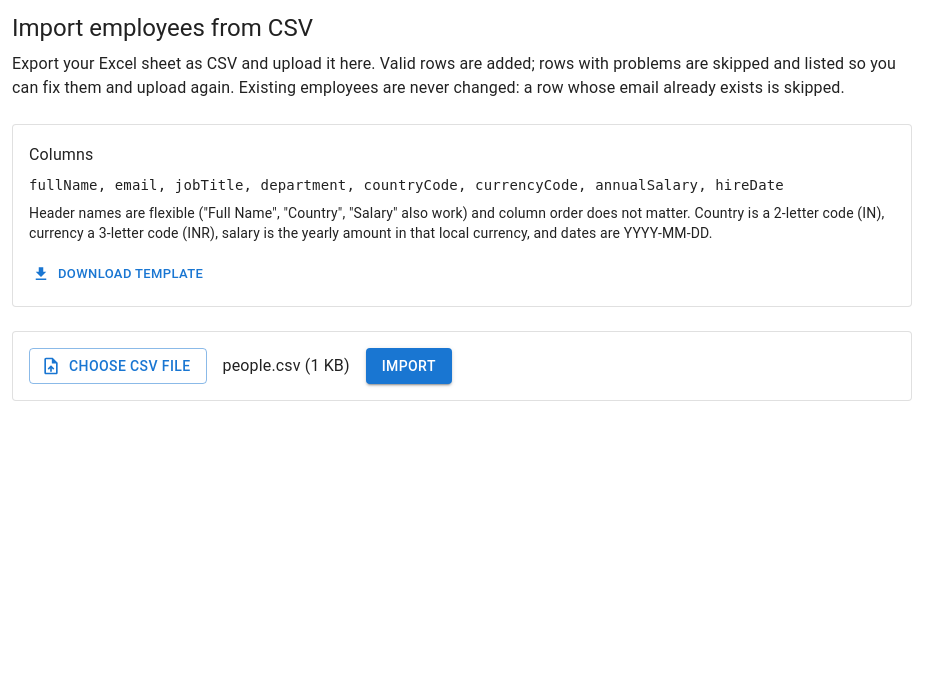
Test: ImportPage › sends the file text as text/csv and summarises the outcome
Earlier steps of the test are not shown.
Click the button "Import" at [409, 366], box x1=366 y1=348 x2=452 y2=384
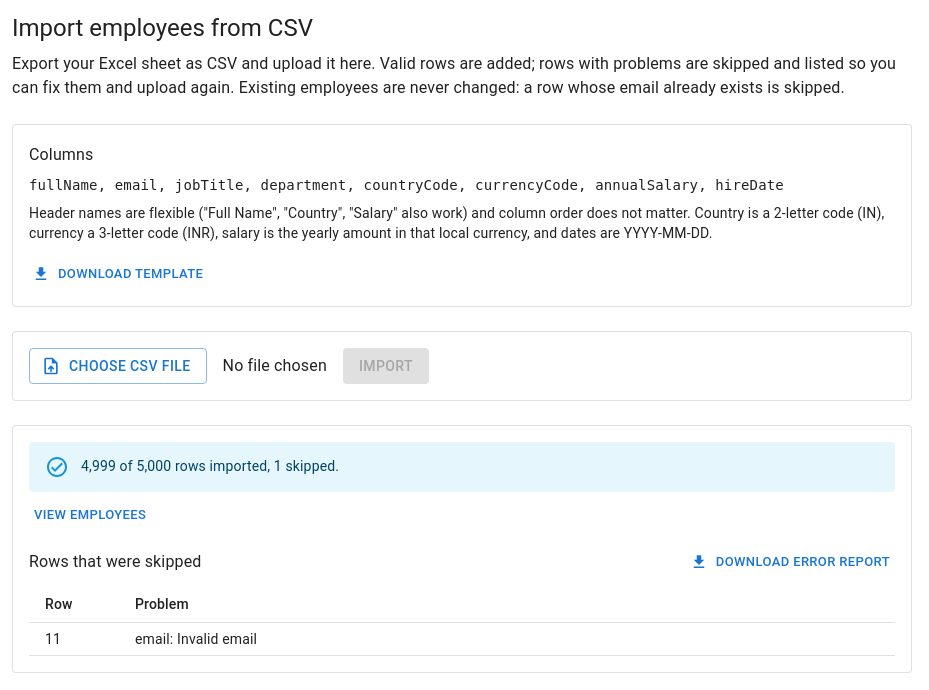
Now the text "4,999 of 5,000 rows imported, 1 skipped." is shown, box x1=81 y1=458 x2=339 y2=474
